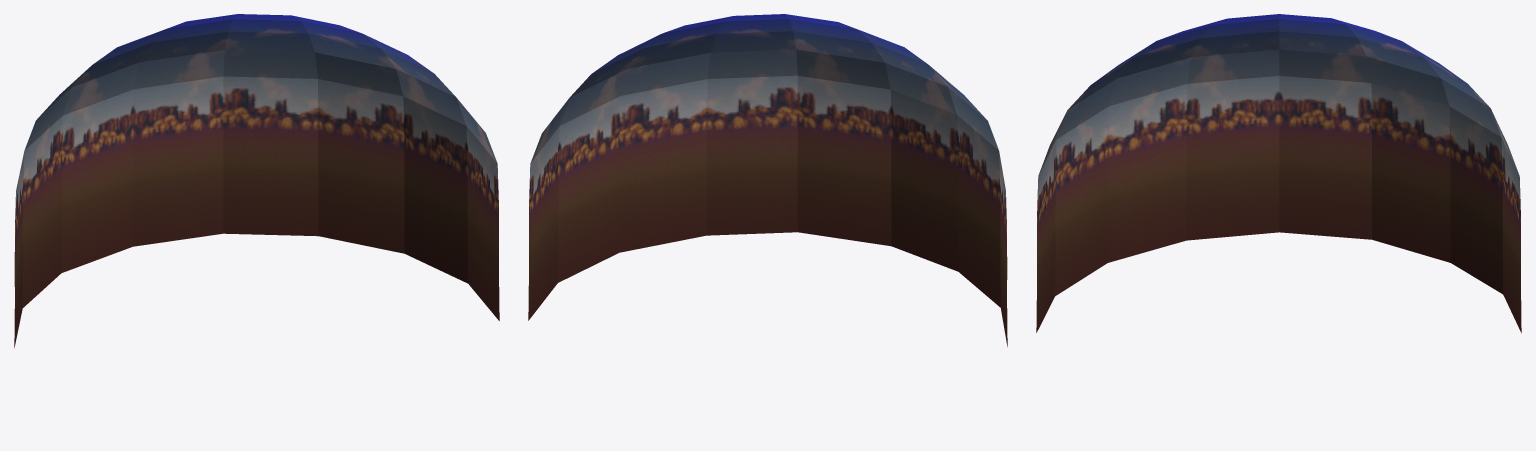
The model's file is Track_08_sky.glb.
3 views of the same model, side by side, from view 1: azimuth 30°, elevation 25°; view 2: azimuth 150°, elevation 25°; view 3: azimuth 270°, elevation 25° (orthographic).
Parts seen in each view (by area): view 1: Mesh_0; view 2: Mesh_0; view 3: Mesh_0.
Boxes of the visible parts, x1,y1,x2,y2 form: Mesh_0: (14,14,499,348); Mesh_0: (528,14,1007,346); Mesh_0: (1036,14,1521,333).
Bounding box in the file's own units: 366 × 243 × 366.
Materials: 1 (1 with a texture image).
